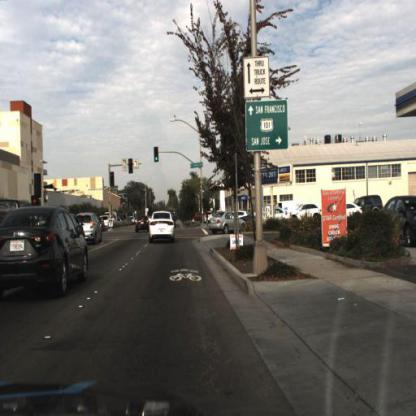car: (2, 206, 90, 294), (383, 195, 416, 252), (148, 206, 177, 240), (353, 191, 384, 220), (211, 211, 248, 234), (291, 202, 323, 222), (134, 211, 153, 235)
trafficLight-Green: (152, 144, 160, 164), (202, 183, 207, 198)
